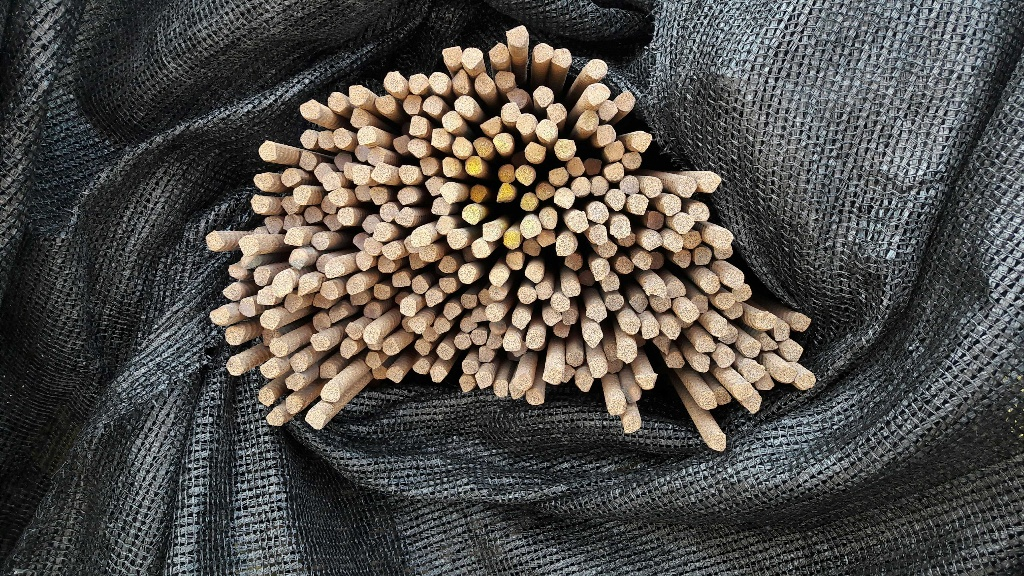dipstick: (384, 70, 406, 95), (627, 194, 650, 217), (507, 25, 529, 49), (585, 83, 611, 103), (605, 188, 627, 211), (719, 268, 744, 288), (674, 301, 699, 321), (461, 47, 483, 69), (661, 193, 683, 215), (506, 87, 527, 110), (554, 139, 577, 160), (672, 213, 695, 234), (702, 171, 722, 195), (607, 393, 627, 417), (451, 69, 470, 94), (298, 99, 320, 120), (454, 95, 475, 117), (514, 165, 535, 187), (616, 90, 637, 112), (774, 364, 796, 385), (428, 71, 448, 94), (442, 45, 462, 68), (489, 42, 509, 65), (532, 86, 552, 109), (536, 119, 556, 142), (576, 111, 599, 131), (741, 390, 761, 413), (349, 83, 368, 107), (272, 273, 291, 297), (327, 92, 348, 113), (473, 136, 494, 157), (554, 188, 575, 209), (587, 59, 608, 80), (588, 203, 609, 224), (745, 361, 766, 382), (225, 356, 245, 378), (552, 47, 572, 69), (546, 103, 566, 125), (519, 218, 541, 238), (642, 177, 664, 197), (782, 339, 802, 361), (556, 234, 575, 257), (574, 369, 593, 392), (283, 229, 307, 247), (371, 163, 391, 184), (408, 73, 428, 94), (402, 94, 422, 115), (493, 69, 514, 89), (442, 110, 462, 131), (496, 183, 516, 204), (598, 99, 618, 120), (569, 211, 590, 231), (320, 381, 339, 403), (534, 42, 553, 64), (473, 73, 495, 92), (526, 141, 545, 163), (678, 176, 697, 198), (621, 410, 640, 432), (662, 318, 681, 340), (209, 307, 232, 325), (595, 125, 618, 143), (649, 295, 672, 313), (297, 276, 317, 296), (305, 409, 325, 429), (493, 133, 513, 153), (452, 137, 472, 157), (548, 167, 568, 187), (543, 366, 563, 386), (693, 247, 713, 267), (640, 316, 660, 336), (260, 310, 281, 329), (259, 360, 280, 379), (409, 116, 428, 137), (431, 128, 450, 149), (516, 113, 535, 134), (460, 206, 481, 225), (470, 239, 491, 258), (603, 141, 624, 160), (689, 202, 710, 221), (641, 230, 662, 249), (584, 326, 603, 347), (588, 357, 607, 378), (645, 277, 666, 296), (708, 432, 727, 453), (333, 128, 351, 150), (250, 194, 268, 216), (621, 152, 643, 170), (609, 218, 631, 236), (617, 341, 635, 363), (635, 372, 657, 390), (356, 128, 379, 145), (259, 384, 276, 407), (628, 133, 651, 150), (257, 141, 277, 160), (239, 236, 258, 256), (323, 259, 343, 278), (397, 187, 417, 206), (399, 164, 418, 184), (418, 157, 438, 176), (345, 275, 364, 295), (224, 326, 243, 346), (375, 95, 395, 114), (423, 95, 442, 115), (566, 157, 586, 176), (447, 230, 466, 250), (536, 229, 556, 248), (517, 285, 536, 305), (512, 309, 531, 329), (526, 330, 545, 350), (664, 232, 683, 252), (632, 251, 651, 271), (587, 303, 607, 322), (666, 279, 686, 298), (790, 312, 810, 331), (327, 188, 348, 206), (619, 176, 640, 194), (653, 334, 671, 355), (293, 184, 310, 206), (480, 117, 502, 134), (349, 108, 368, 127), (536, 183, 555, 202), (502, 231, 521, 250), (742, 339, 761, 358), (300, 151, 318, 171), (323, 171, 341, 191), (370, 186, 388, 206), (396, 206, 414, 226), (289, 354, 309, 372), (425, 287, 443, 307), (423, 177, 443, 195), (431, 197, 451, 215), (435, 216, 453, 236), (534, 282, 552, 302), (549, 293, 569, 311), (513, 372, 533, 390), (572, 177, 590, 197), (682, 231, 702, 249), (712, 229, 732, 247), (714, 243, 734, 261), (623, 384, 641, 404), (690, 354, 710, 372), (760, 333, 780, 351), (755, 372, 775, 390), (392, 135, 409, 156), (441, 181, 458, 202), (540, 209, 557, 230), (694, 336, 716, 352), (253, 173, 272, 191), (304, 205, 322, 224), (310, 232, 329, 250), (288, 249, 306, 268), (378, 203, 396, 222), (321, 281, 339, 300), (377, 256, 396, 274), (313, 312, 332, 330), (238, 299, 257, 317), (345, 321, 363, 340), (385, 366, 404, 384), (501, 103, 520, 121), (465, 156, 484, 174), (520, 192, 538, 211), (482, 223, 500, 242), (522, 239, 541, 257), (524, 265, 543, 283), (561, 279, 580, 297), (485, 304, 503, 323), (474, 372, 493, 390), (605, 162, 624, 180), (591, 177, 609, 196), (590, 225, 608, 244), (591, 261, 609, 280), (622, 316, 640, 335), (629, 294, 647, 313), (718, 348, 736, 367), (796, 372, 815, 390), (714, 387, 732, 406), (205, 230, 222, 250), (382, 242, 402, 259), (411, 228, 431, 245), (268, 339, 288, 356), (441, 156, 458, 176), (498, 163, 515, 183), (488, 269, 508, 286), (647, 210, 664, 230), (723, 302, 743, 319), (710, 317, 727, 337), (310, 334, 331, 350), (692, 294, 708, 315), (313, 163, 331, 181), (263, 216, 281, 234), (260, 328, 278, 346), (266, 409, 284, 427), (505, 253, 523, 271), (436, 342, 454, 360), (501, 334, 519, 352), (329, 305, 348, 322), (285, 373, 304, 390), (492, 379, 509, 398), (566, 350, 585, 367), (615, 257, 634, 274), (674, 249, 691, 268), (756, 313, 775, 330), (318, 130, 334, 150), (300, 129, 316, 149), (356, 250, 372, 270), (285, 394, 301, 414), (700, 276, 720, 292), (281, 169, 299, 186), (354, 185, 372, 202), (418, 246, 436, 263), (284, 295, 302, 312), (257, 289, 275, 306), (383, 338, 400, 356), (414, 339, 432, 356), (409, 139, 426, 157), (458, 265, 475, 283), (433, 317, 450, 335), (489, 285, 507, 302), (554, 322, 572, 339), (602, 274, 620, 291), (733, 284, 751, 301), (701, 393, 718, 411), (368, 146, 384, 165), (353, 165, 369, 184), (227, 263, 246, 279), (373, 223, 389, 242), (392, 272, 411, 288), (340, 340, 356, 359), (470, 184, 486, 203), (584, 158, 603, 174), (598, 242, 617, 258), (648, 251, 664, 270), (665, 353, 684, 369), (338, 206, 353, 226), (320, 196, 337, 213), (252, 267, 269, 284), (315, 256, 332, 273), (364, 237, 381, 254), (403, 237, 420, 254), (319, 363, 336, 380), (565, 254, 582, 271), (478, 346, 495, 363), (333, 152, 349, 170), (282, 196, 298, 214), (323, 214, 341, 230), (362, 214, 378, 232), (223, 283, 241, 299), (364, 351, 382, 367), (412, 359, 430, 375), (443, 303, 461, 319), (715, 292, 733, 308), (774, 322, 790, 340), (412, 276, 427, 295), (580, 269, 595, 288), (362, 303, 382, 317), (283, 214, 299, 231), (408, 253, 425, 269), (363, 326, 379, 343), (430, 366, 447, 382), (440, 256, 457, 272), (439, 277, 456, 293), (461, 293, 477, 310), (471, 308, 488, 324), (454, 334, 470, 351), (458, 375, 475, 391), (508, 383, 525, 399), (544, 310, 561, 326), (618, 232, 635, 248), (606, 295, 623, 311), (352, 232, 367, 250), (313, 293, 331, 308), (526, 390, 544, 405), (603, 343, 618, 361), (460, 360, 479, 374), (487, 333, 503, 349), (373, 283, 390, 298), (409, 317, 424, 334), (459, 318, 477, 332), (675, 315, 693, 329), (401, 300, 416, 316), (510, 151, 526, 166), (471, 330, 486, 346), (562, 309, 577, 325), (721, 328, 737, 343), (350, 292, 367, 306), (489, 321, 506, 335), (371, 365, 387, 379), (606, 359, 622, 373), (355, 144, 368, 161), (240, 254, 257, 267), (478, 289, 491, 306), (423, 327, 438, 341), (402, 316, 414, 333), (562, 366, 573, 384), (366, 339, 383, 350), (515, 341, 526, 358), (462, 249, 476, 262), (344, 162, 354, 180), (393, 292, 406, 305), (634, 334, 645, 348), (507, 351, 518, 362), (251, 227, 266, 235)
